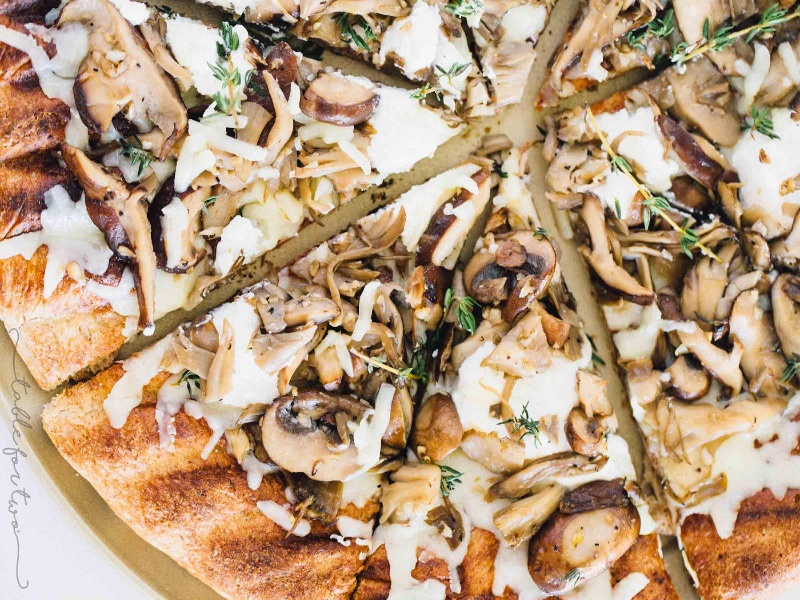champignon: (52, 1, 202, 154), (522, 477, 648, 594), (251, 387, 386, 490), (462, 221, 569, 318)
